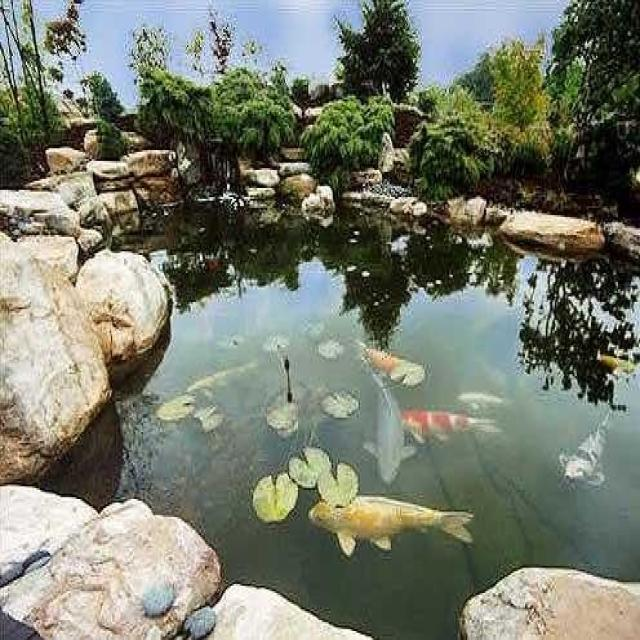Ponds: (1, 145, 640, 640)
